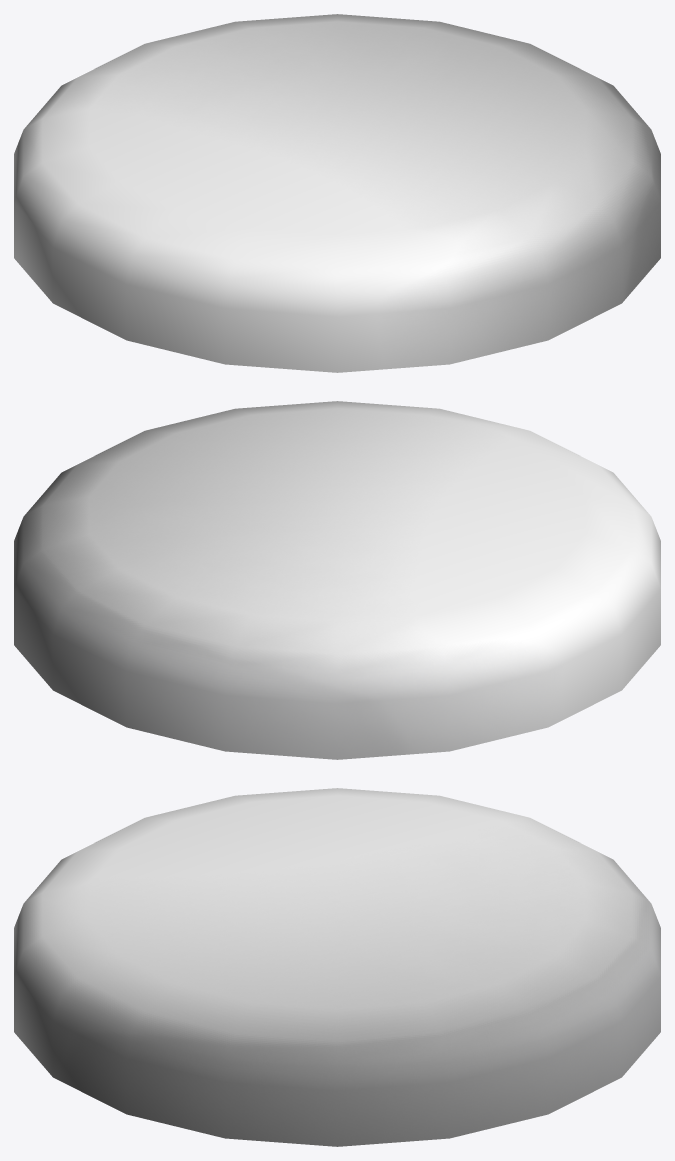
Rendered from gameButton.obj.
3 views of the same model, one above another, from view 1: azimuth 30°, elevation 25°; view 2: azimuth 150°, elevation 25°; view 3: azimuth 270°, elevation 25° (orthographic).
Visible parts, largest first — view 1: gameButtonOff; view 2: gameButtonOff; view 3: gameButtonOff.
Boxes of the visible parts, left/top/right/bottom form: gameButtonOff: left=14, top=14, right=660, bottom=372; gameButtonOff: left=14, top=401, right=660, bottom=759; gameButtonOff: left=14, top=788, right=660, bottom=1146.
Size of the model in its own units: 37.29 by 6.63 by 36.73.
